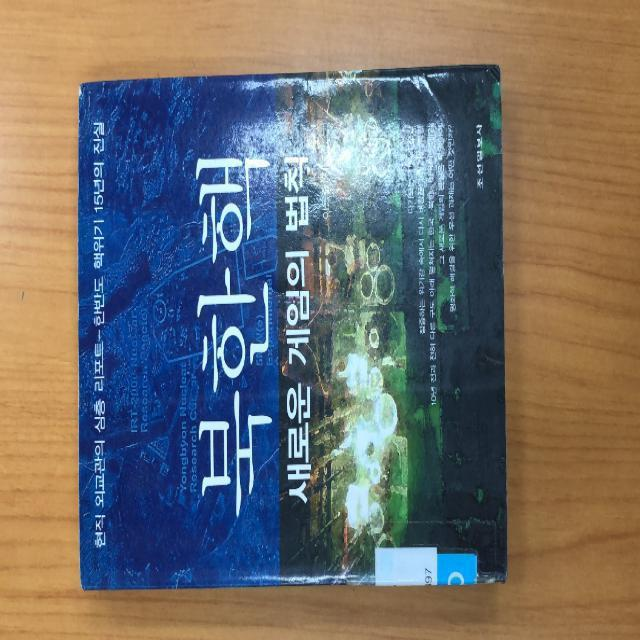Wornout: (489, 60, 507, 125), (76, 522, 91, 596), (76, 79, 92, 128)
